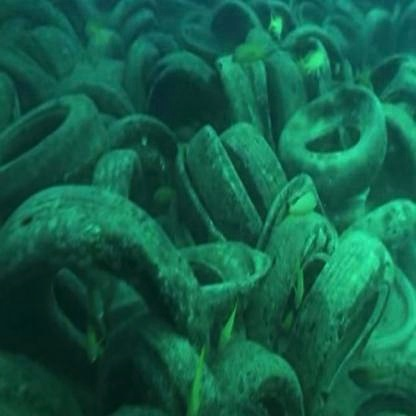tire: (41, 178, 224, 416), (272, 53, 414, 209), (192, 90, 297, 217), (297, 228, 389, 369), (172, 213, 285, 318), (135, 66, 221, 156), (2, 96, 81, 184)
